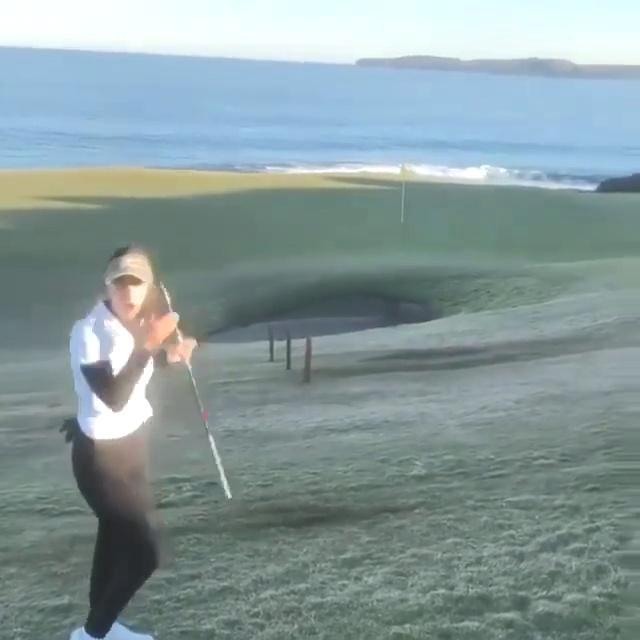ClubHandle: (158, 282, 232, 500)
ClubHead: (159, 281, 171, 311)
